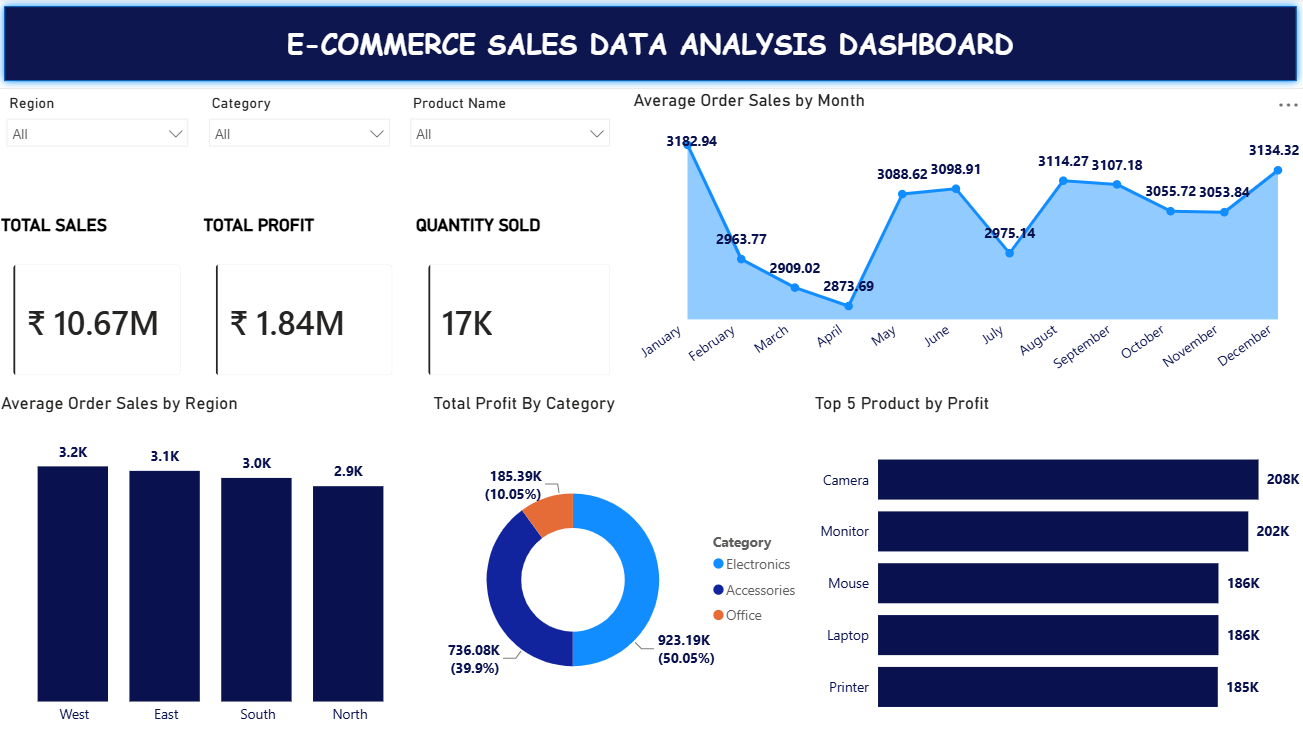

Layout of this report page (visuals, bound fields, positions):
{"tool":"powerbi","page":{"name":"E-Commerce Sales Data Analysis Dashboard","canvas":[1280,720],"ordinal":0},"visuals":[{"type":"cardVisual","title":"TOTAL SALES","fields":{"Data":["Sum(Sales_Data.Sales)"]},"box":[0,211.6,198.1,174.9],"z":0},{"type":"clusteredColumnChart","title":"Average Order Sales by Region","fields":{"Category":["Sales_Data.Region"],"Y":["Avg(Sales_Data.Sales)"]},"box":[0,386.4,423.1,333.8],"z":1000},{"type":"cardVisual","title":"TOTAL PROFIT","fields":{"Data":["Sum(Sales_Data.Profit)"]},"box":[198.1,211.6,207.9,174.9],"z":2000},{"type":"donutChart","title":"Total Profit By Category","fields":{"Category":["Sales_Data.Category"],"Y":["Sum(Sales_Data.Profit)"]},"box":[423.1,386.4,373,333.8],"z":3000},{"type":"clusteredBarChart","title":"Top 5 Product by Profit","fields":{"Category":["Sales_Data.Product Name"],"Y":["Sum(Sales_Data.Profit)"]},"box":[796.1,386.4,484.2,333.8],"z":4000},{"type":"cardVisual","title":"QUANTITY SOLD","fields":{"Data":["Sum(Sales_Data.Quantity)"]},"box":[406,211.6,212.8,174.9],"z":5000},{"type":"areaChart","title":"Average Order Sales by Month","fields":{"Category":["Sales_Data.Order Date.Variation.Date Hierarchy.Month"],"Y":["Avg(Sales_Data.Sales)"]},"box":[618.8,89.3,661.6,297.1],"z":6000},{"type":"slicer","fields":{"Values":["Sales_Data.Region"]},"box":[0,89.3,198.1,122.3],"z":7000},{"type":"slicer","fields":{"Values":["Sales_Data.Category"]},"box":[198.1,89.3,196.9,122.3],"z":8000},{"type":"slicer","fields":{"Values":["Sales_Data.Product Name"]},"box":[395,89.3,215.2,122.3],"z":9000},{"type":"shape","box":[0,0,1280.3,89.3],"z":10000}]}

Visuals, with their boxes in screenshot pixels (x1, y1, x2, y2), scaled from the page's 1280x720 canvas onto the 1303x730 screenshot:
"TOTAL SALES" cardVisual: {"x1": 0, "y1": 215, "x2": 202, "y2": 392}
"Average Order Sales by Region" clusteredColumnChart: {"x1": 0, "y1": 392, "x2": 431, "y2": 729}
"TOTAL PROFIT" cardVisual: {"x1": 202, "y1": 215, "x2": 413, "y2": 392}
"Total Profit By Category" donutChart: {"x1": 431, "y1": 392, "x2": 810, "y2": 729}
"Top 5 Product by Profit" clusteredBarChart: {"x1": 810, "y1": 392, "x2": 1302, "y2": 729}
"QUANTITY SOLD" cardVisual: {"x1": 413, "y1": 215, "x2": 630, "y2": 392}
"Average Order Sales by Month" areaChart: {"x1": 630, "y1": 91, "x2": 1302, "y2": 392}
slicer - Sales_Data.Region: {"x1": 0, "y1": 91, "x2": 202, "y2": 215}
slicer - Sales_Data.Category: {"x1": 202, "y1": 91, "x2": 402, "y2": 215}
slicer - Sales_Data.Product Name: {"x1": 402, "y1": 91, "x2": 621, "y2": 215}
shape: {"x1": 0, "y1": 0, "x2": 1302, "y2": 91}
